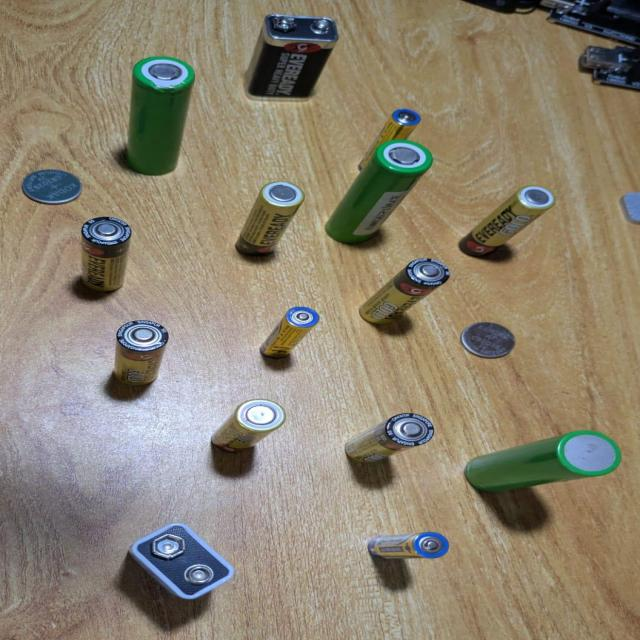9V: (120, 513, 244, 620), (234, 7, 351, 105)
AA: (451, 178, 565, 263), (350, 255, 458, 338), (231, 174, 311, 266), (337, 406, 448, 472), (73, 210, 135, 302), (111, 315, 174, 396), (206, 398, 288, 460)
AAA: (255, 296, 329, 372), (358, 526, 458, 569), (375, 102, 432, 143)
COIN: (22, 168, 88, 207), (461, 315, 517, 360)
